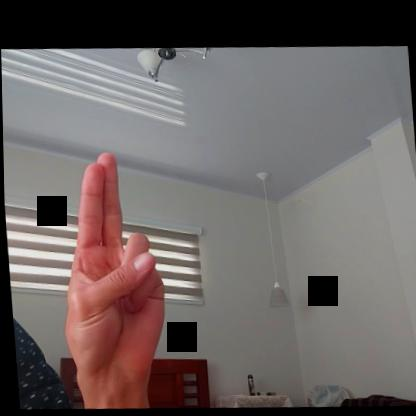U: (52, 147, 171, 392)
